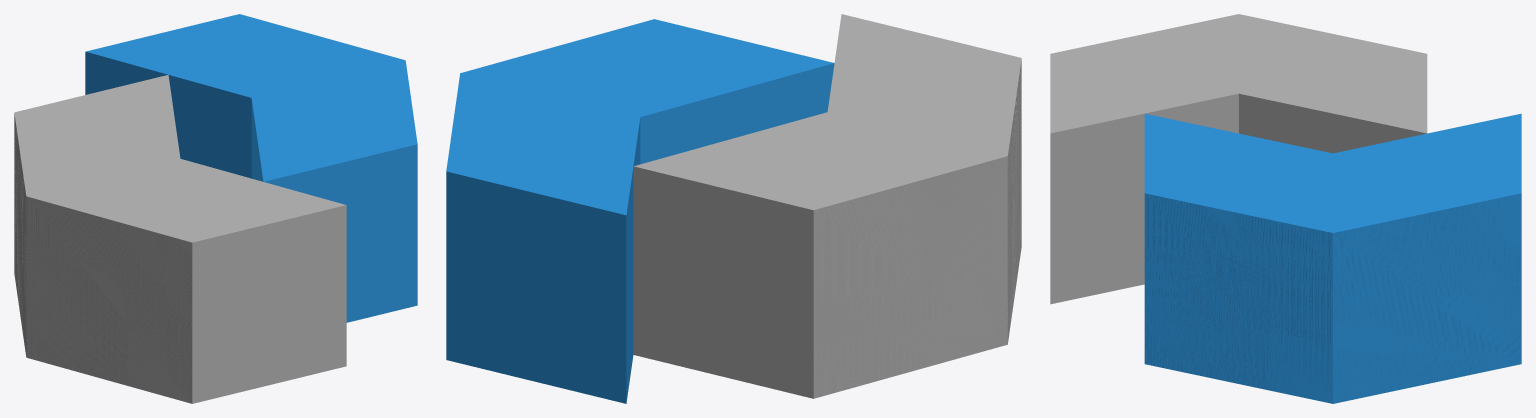
File: reindent-final-alt.glb
3 views of the same model, side by side, from view 1: azimuth 30°, elevation 25°; view 2: azimuth 150°, elevation 25°; view 3: azimuth 270°, elevation 25° (orthographic). The views are drawn at different scales.
Visible parts, largest first — view 1: LeftBracket, RightBracket; view 2: LeftBracket, RightBracket; view 3: RightBracket, LeftBracket.
Part boxes in pixels (x1,y1,x2,y2): LeftBracket: (14,75,346,403); RightBracket: (85,14,417,322); LeftBracket: (633,14,1021,398); RightBracket: (446,19,834,403); RightBracket: (1144,113,1521,403); LeftBracket: (1050,14,1427,304).
Size of the model in its own units: 5.5 by 2 by 5.
